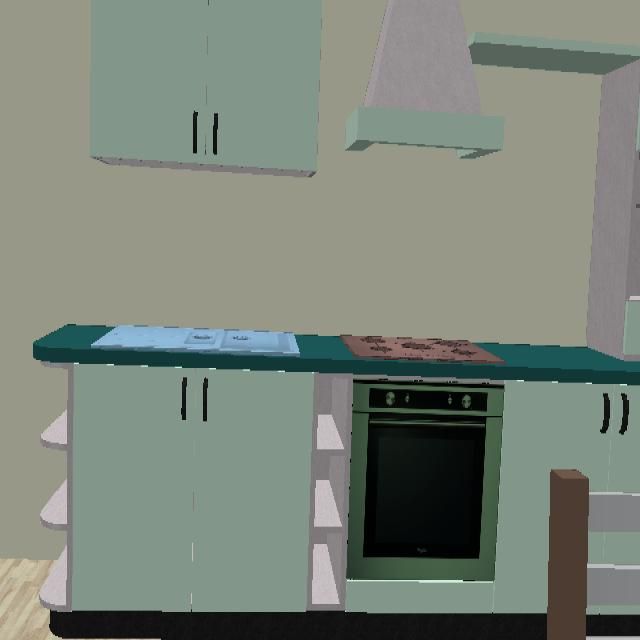cabinet: (41, 364, 316, 615), (87, 0, 318, 177)
countertop: (33, 324, 640, 385)
oven: (348, 384, 497, 585)
sink: (93, 327, 300, 357)
stove: (341, 336, 504, 364)
